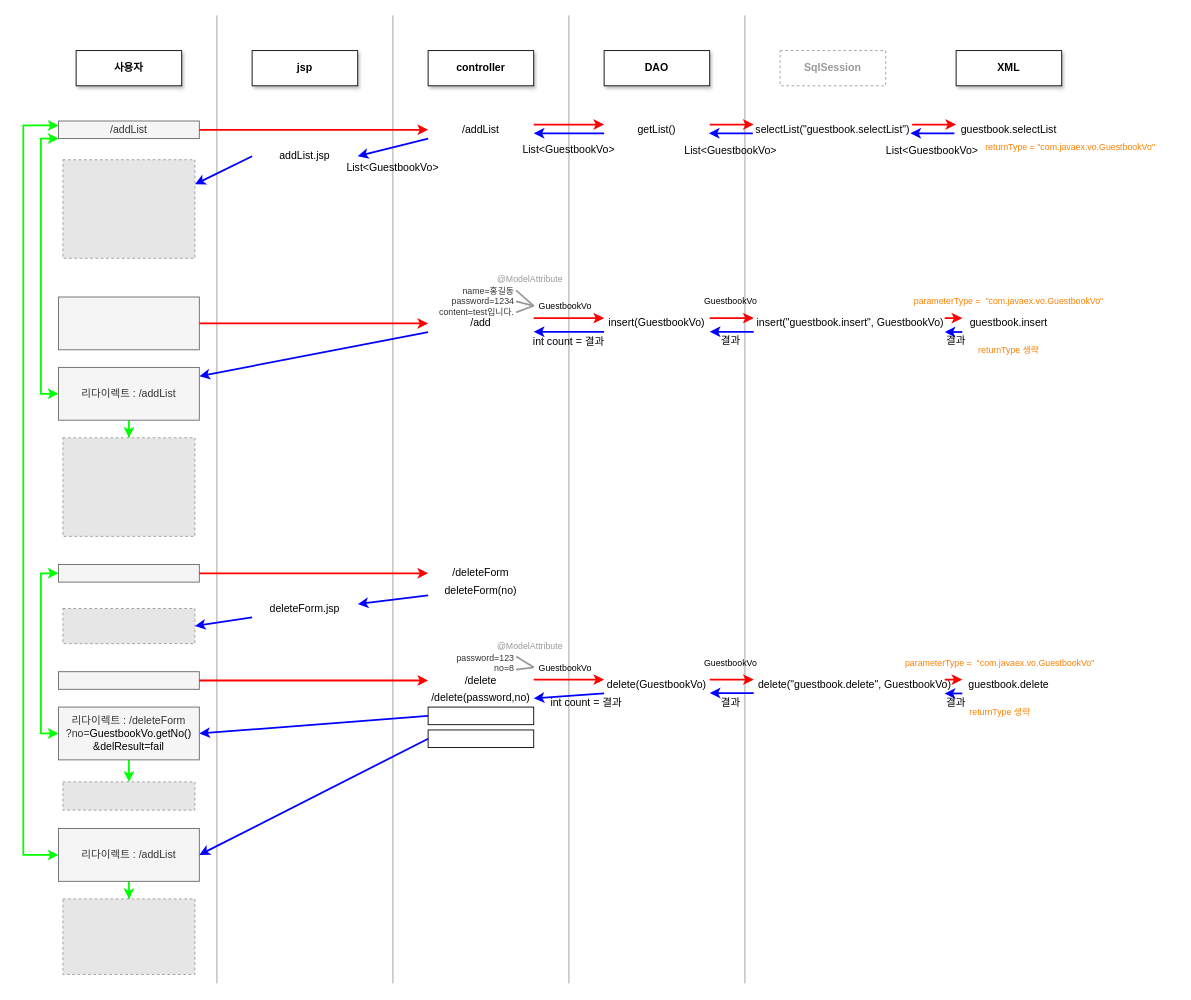
This 1191x1000 diagram has some shape labels left out. Grey dashed boxes stand in for pictures. The shapes that lost their labels are listed below. From the top down, each one's centre as x and y in pixels, then its label:
pixel 128 323: /add?name=홍길동&password=1234& content=test입니다.
pixel 128 573: /deleteForm?no=8
pixel 128 680: /delete?password=123&no=8
pixel 480 715: if count == 0 (실패)
pixel 480 738: esle (성공)
